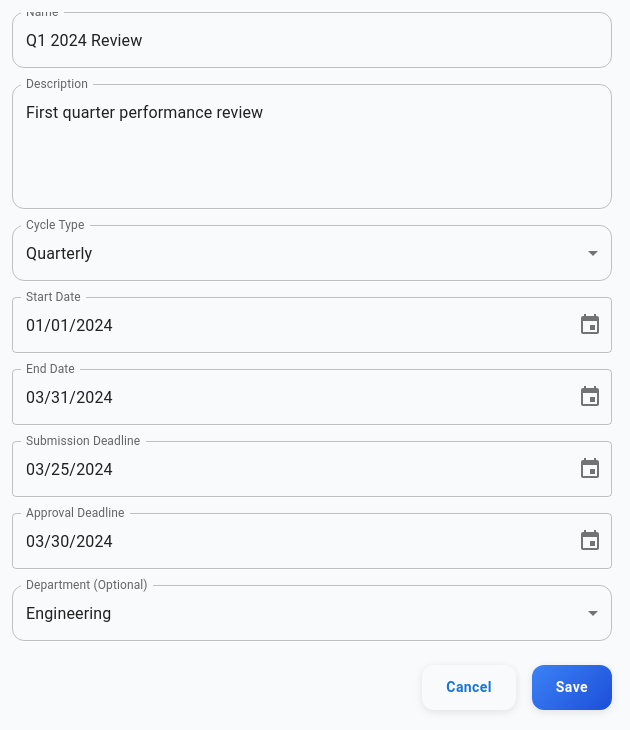
Test: ReviewCycleForm › disables form submission during loading
Click the button "Save": (572, 687) [532, 665, 612, 710]
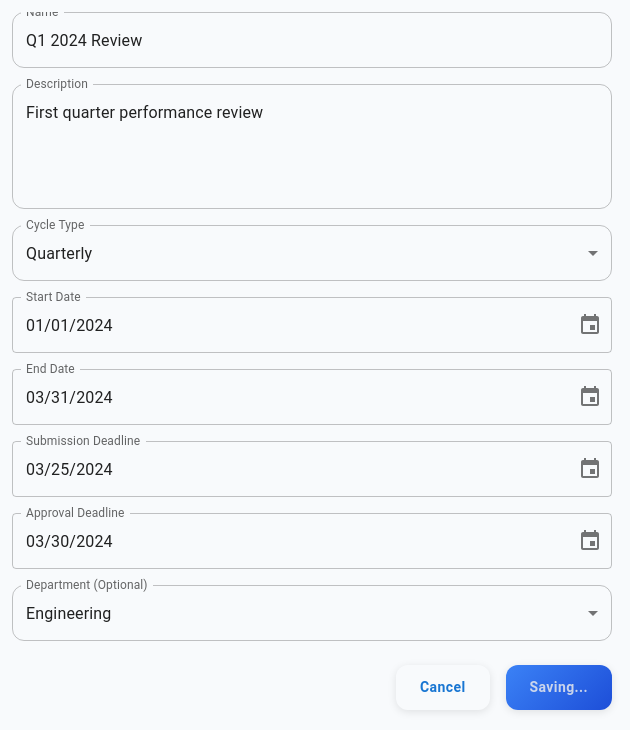
Now the button named "save" is disabled, box [506, 665, 612, 710]
